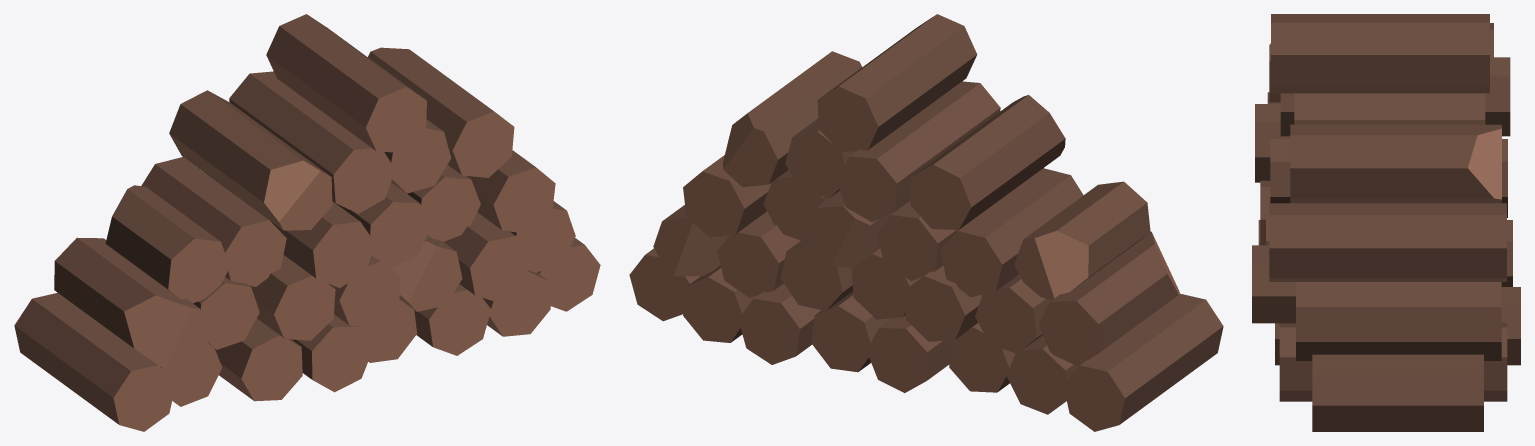
The model's file is LPHorror_LargeLogPile.fbx.
3 renders of one model, left to right at view 1: azimuth 30°, elevation 25°; view 2: azimuth 150°, elevation 25°; view 3: azimuth 270°, elevation 25°, orthographic. The views are drawn at different scales.
Visible parts, largest first — view 1: LargeLogPile; view 2: LargeLogPile; view 3: LargeLogPile.
Part boxes in pixels (left/top/right/bottom): LargeLogPile: left=14, top=14, right=600, bottom=431; LargeLogPile: left=629, top=14, right=1223, bottom=431; LargeLogPile: left=1252, top=14, right=1520, bottom=431.
Bounding box in the file's own units: 187 × 101 × 78.56.
